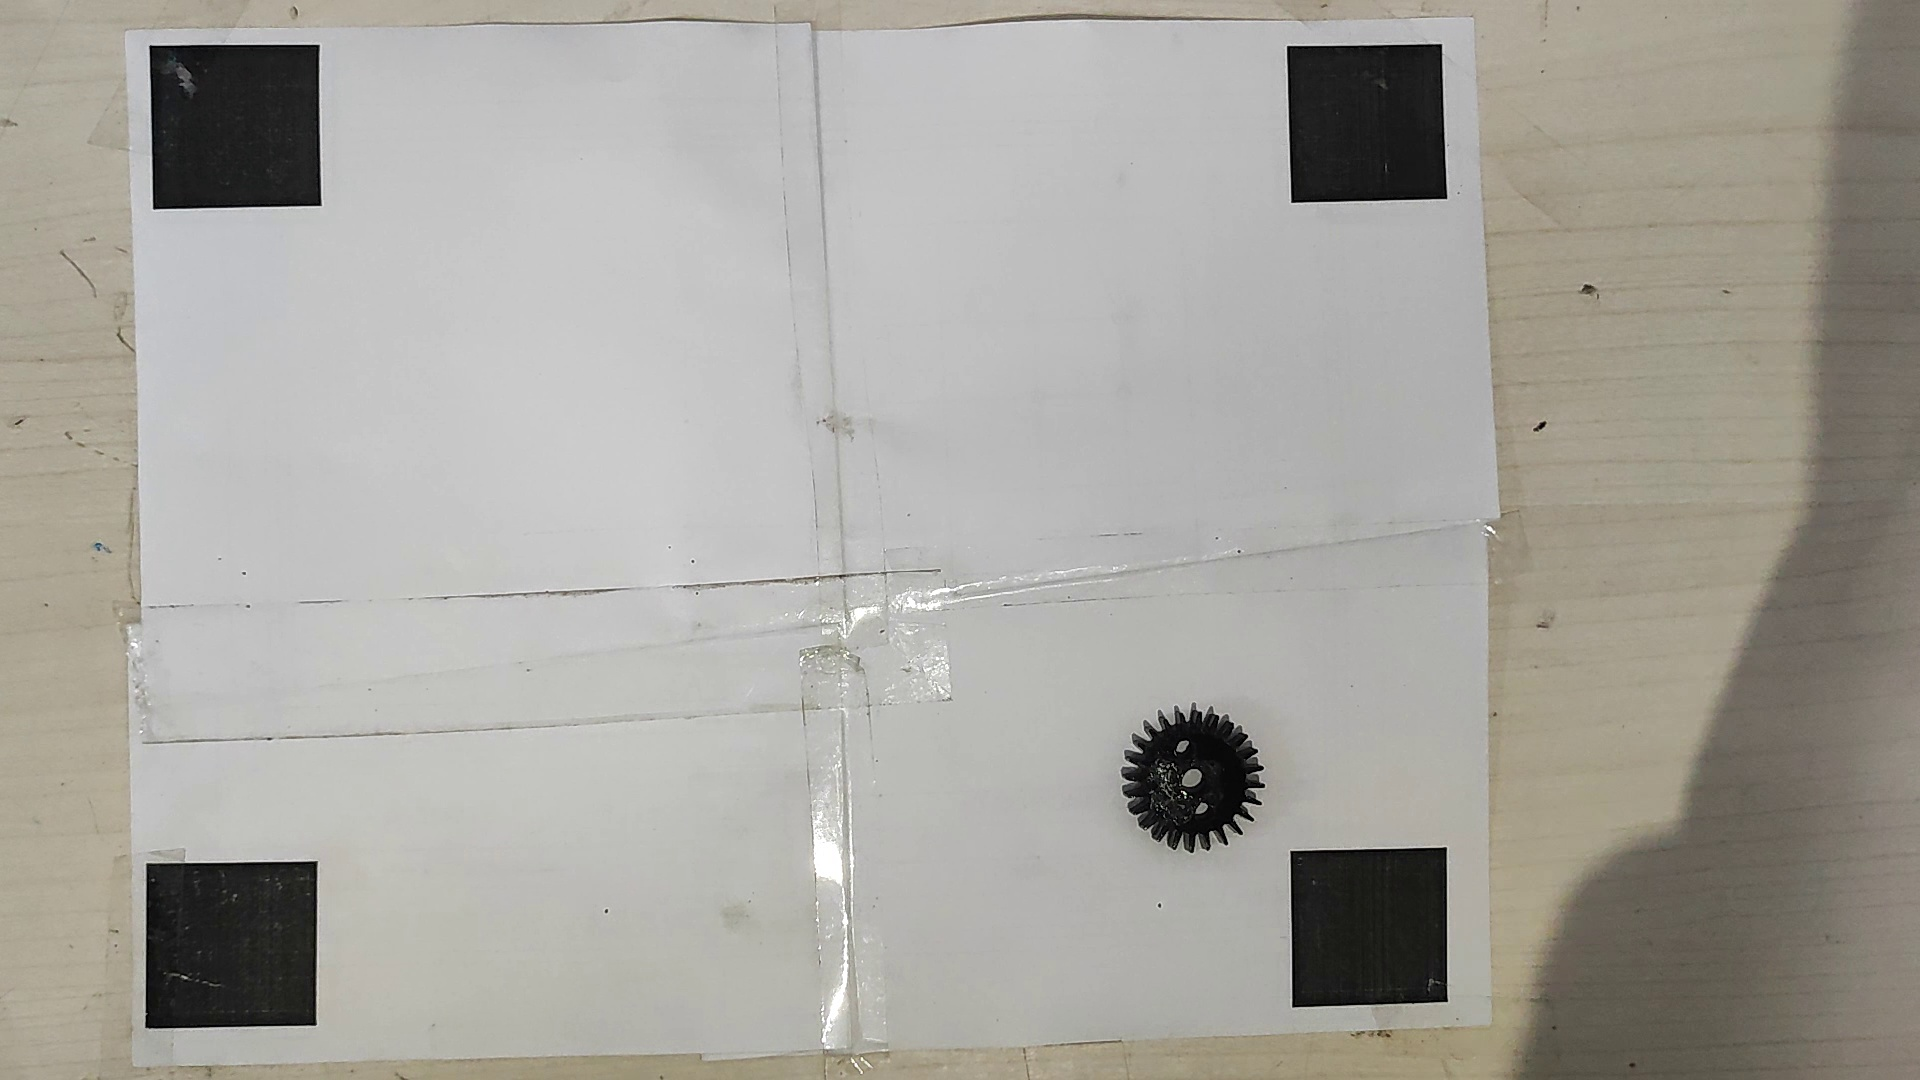Gear: (1114, 700, 1263, 857)
